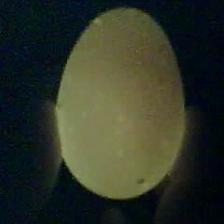infertile: (56, 4, 190, 198)
